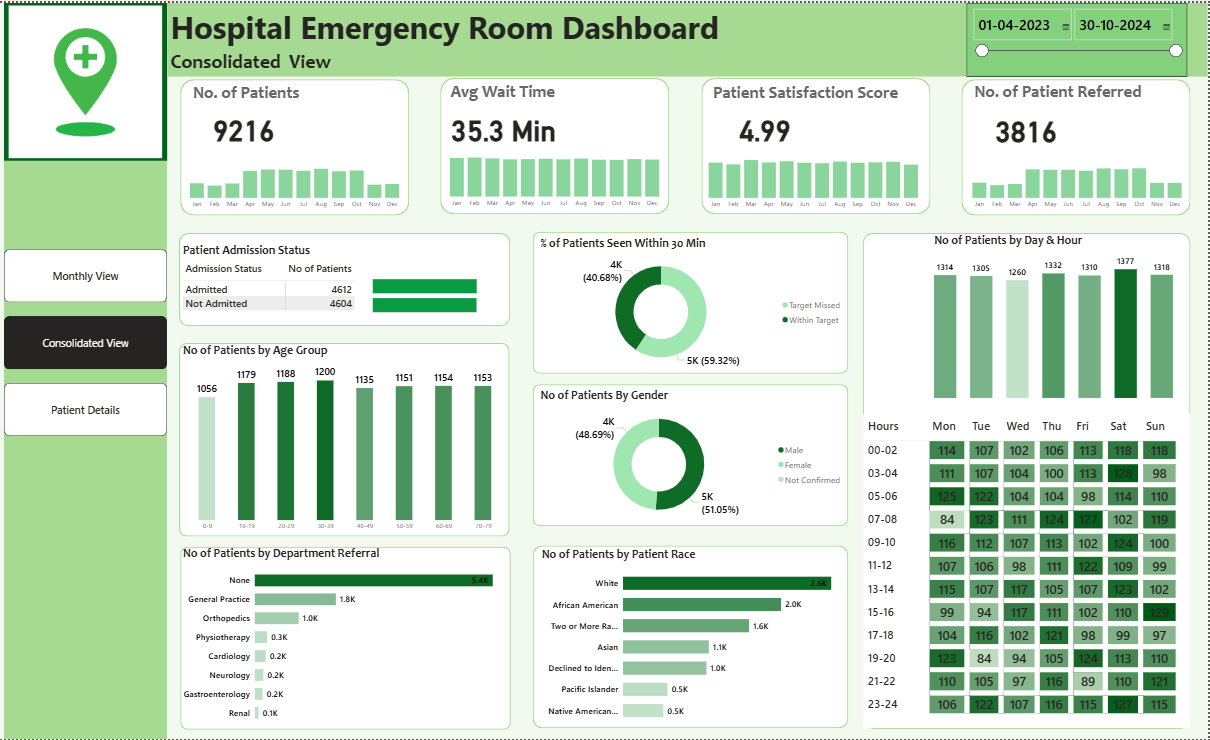

This screenshot's page, from the dashboard's own definition file:
{"tool":"powerbi","page":{"name":"Consolidated View","canvas":[2300,1400],"ordinal":1},"visuals":[{"type":"shape","box":[10.4,0,310,1399.9],"z":0},{"type":"shape","box":[321.5,0,1978,140],"z":1000},{"type":"textbox","box":[321.5,0,1060.3,90.7],"z":2000},{"type":"shape","box":[344.8,145.2,435.5,259.2],"z":3000},{"type":"textbox","box":[320,83.3,336.7,56.7],"z":4000},{"type":"card","fields":{"Values":["Hospital ER_Data.No of Patients"]},"box":[344.8,171.1,241.1,129.6],"z":5000},{"type":"slicer","fields":{"Values":["Date Table.Date"]},"box":[1840,0,420,140],"z":6000},{"type":"textbox","box":[362.9,145.2,241.1,57],"z":8000},{"type":"columnChart","fields":{"Category":["Date Table.Month Name"],"Y":["Hospital ER_Data.No of Patients"]},"box":[344.8,275.2,435.5,125],"z":9000},{"type":"shape","box":[840,143.8,435.5,259.2],"z":11000},{"type":"card","fields":{"Values":["Hospital ER_Data.Avg Wait Time"]},"box":[840,171.1,241.1,129.6],"z":12000},{"type":"shape","box":[1335.1,141.7,435.5,259.2],"z":13000},{"type":"card","fields":{"Values":["Hospital ER_Data.Satisfaction Score"]},"box":[1335.1,171.1,241.1,129.6],"z":14000},{"type":"textbox","box":[1352.2,145.7,388.6,56.7],"z":15000},{"type":"columnChart","fields":{"Category":["Date Table.Month Name"],"Y":["Hospital ER_Data.Satisfaction Score"]},"box":[1332.5,275.2,435.5,125],"z":16000},{"type":"shape","box":[1830.3,145.2,435.5,259.2],"z":17000},{"type":"card","fields":{"Values":["Hospital ER_Data.No of Patient Referred"]},"box":[1832.9,173.7,241.1,129.6],"z":18000},{"type":"textbox","box":[1848.8,143,353.6,56.7],"z":19000},{"type":"columnChart","fields":{"Y":["Hospital ER_Data.No of Patient Referred"],"Category":["Date Table.Month Name"]},"box":[1832.9,275.2,435.5,125],"z":20000},{"type":"columnChart","fields":{"Category":["Date Table.Month Name"],"Y":["Avg(Hospital ER_Data.Patient Waittime)"]},"box":[840,272.7,435.5,125],"z":21000},{"type":"textbox","box":[852.9,142.6,241.1,57],"z":22000},{"type":"shape","box":[342.8,437.2,630,177],"z":23000},{"type":"pivotTable","title":"Patient Admission Status","fields":{"Rows":["Hospital ER_Data.Admission Status"],"Values":["Hospital ER_Data.No of Patients"]},"box":[344.8,456.5,627.7,156.9],"z":24000},{"type":"barChart","fields":{"Category":["Hospital ER_Data.Admission Status"],"Y":["Hospital ER_Data.No of Patients"]},"box":[707.1,493.9,267.2,118.8],"z":25000},{"type":"shape","box":[342.8,647.7,628.9,368],"z":26000},{"type":"clusteredColumnChart","fields":{"Category":["Hospital ER_Data.Age Group"],"Y":["Hospital ER_Data.No of Patients"]},"box":[345.5,647.7,628.9,367.1],"z":27000},{"type":"shape","box":[345.5,1033.7,628.9,348.2],"z":28000},{"type":"clusteredBarChart","fields":{"Category":["Hospital ER_Data.Department Referral"],"Y":["Hospital ER_Data.No of Patients"]},"box":[345,1032.5,627.5,350],"z":29000},{"type":"shape","box":[1015.3,435.1,600,270],"z":30000},{"type":"donutChart","title":"% of Patients Seen Within 30 Min","fields":{"Category":["Hospital ER_Data.Waittime Status"],"Y":["Hospital ER_Data.No of Patients"]},"box":[1025,442.5,590,262.5],"z":31000},{"type":"shape","box":[1015.3,725.1,600,270],"z":32000},{"type":"donutChart","title":"No of Patients By Gender","fields":{"Y":["Hospital ER_Data.No of Patients"],"Category":["Hospital ER_Data.Patient Gender"]},"box":[1025,732.5,590,262.5],"z":33000},{"type":"shape","box":[1015,1032.5,600,347.5],"z":34000},{"type":"clusteredBarChart","title":"  No of Patients by Patient Race","fields":{"Category":["Hospital ER_Data.Patient Race"],"Y":["Hospital ER_Data.No of Patients"]},"box":[1026.7,1033.3,590,346.7],"z":35000},{"type":"shape","box":[1643.3,436.7,623.3,943.3],"z":36000},{"type":"pivotTable","fields":{"Rows":["Hospital ER_Data.Waittime Interval"],"Columns":["Date Table.Day Name"],"Values":["Hospital ER_Data.No of Patients"]},"box":[1643.3,783.3,623.3,596.7],"z":37000},{"type":"columnChart","title":"No of Patients by Day & Hour","fields":{"Category":["Date Table.Day Name"],"Y":["Hospital ER_Data.No of Patients"]},"box":[1773.3,436.7,466.7,320],"z":38000},{"type":"image","box":[10,0,310,300],"z":39000},{"type":"pageNavigator","box":[10.5,468.4,310.5,355.3],"z":39001}]}

Visuals, with their boxes in screenshot pixels (x1, y1, x2, y2), scaled from the page's 2300x1400 canvas onto the 1210x740 screenshot:
shape: 5:0:169:739
shape: 169:0:1209:74
textbox: 169:0:727:48
shape: 181:77:411:214
textbox: 168:44:345:74
card - Hospital ER_Data.No of Patients: 181:90:308:159
slicer - Date Table.Date: 968:0:1189:74
textbox: 191:77:318:107
columnChart - Date Table.Month Name x Hospital ER_Data.No of Patients: 181:145:411:212
shape: 442:76:671:213
card - Hospital ER_Data.Avg Wait Time: 442:90:569:159
shape: 702:75:931:212
card - Hospital ER_Data.Satisfaction Score: 702:90:829:159
textbox: 711:77:916:107
columnChart - Date Table.Month Name x Hospital ER_Data.Satisfaction Score: 701:145:930:212
shape: 963:77:1192:214
card - Hospital ER_Data.No of Patient Referred: 964:92:1091:160
textbox: 973:76:1159:106
columnChart - Hospital ER_Data.No of Patient Referred x Date Table.Month Name: 964:145:1193:212
columnChart - Date Table.Month Name x Avg(Hospital ER_Data.Patient Waittime): 442:144:671:210
textbox: 449:75:576:106
shape: 180:231:512:325
"Patient Admission Status" pivotTable: 181:241:512:324
barChart - Hospital ER_Data.Admission Status x Hospital ER_Data.No of Patients: 372:261:513:324
shape: 180:342:511:537
clusteredColumnChart - Hospital ER_Data.Age Group x Hospital ER_Data.No of Patients: 182:342:513:536
shape: 182:546:513:730
clusteredBarChart - Hospital ER_Data.Department Referral x Hospital ER_Data.No of Patients: 182:546:512:731
shape: 534:230:850:373
"% of Patients Seen Within 30 Min" donutChart: 539:234:850:373
shape: 534:383:850:526
"No of Patients By Gender" donutChart: 539:387:850:526
shape: 534:546:850:729
"  No of Patients by Patient Race" clusteredBarChart: 540:546:851:729
shape: 865:231:1192:729
pivotTable - Hospital ER_Data.Waittime Interval x Date Table.Day Name: 865:414:1192:729
"No of Patients by Day & Hour" columnChart: 933:231:1178:400
image: 5:0:168:159
pageNavigator: 6:248:169:435
